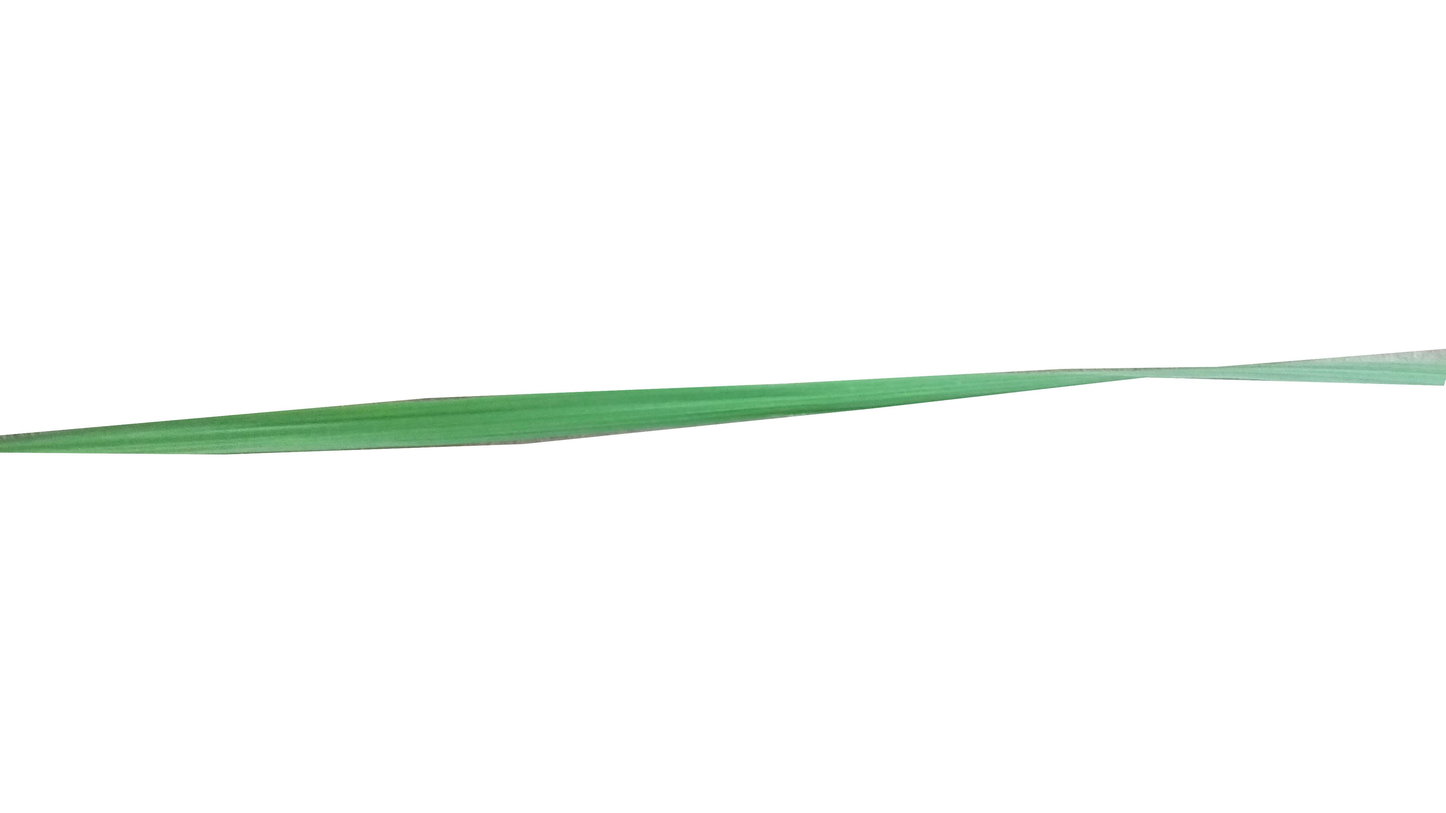Healthy: (0, 372, 1075, 448)
